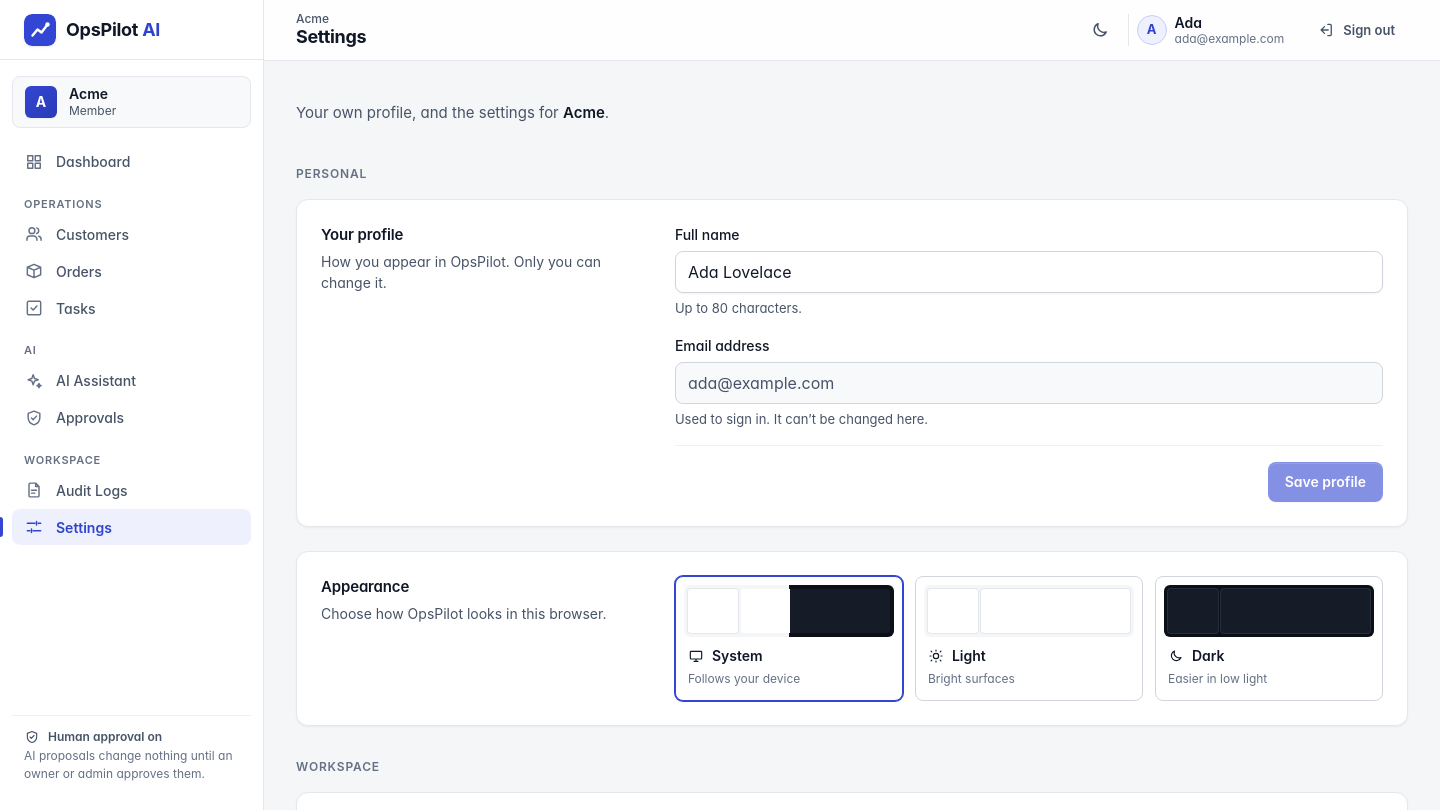
Test case: Profile settings › saves the tidied name and shows it in the header and the dashboard greeting at once
Check: the heading "Settings" is shown, box [296,26,366,49]
Replace the text in the field labelled "Full name" with "  Grace   Hopper " at (1029, 272), box [676,252,1382,292]
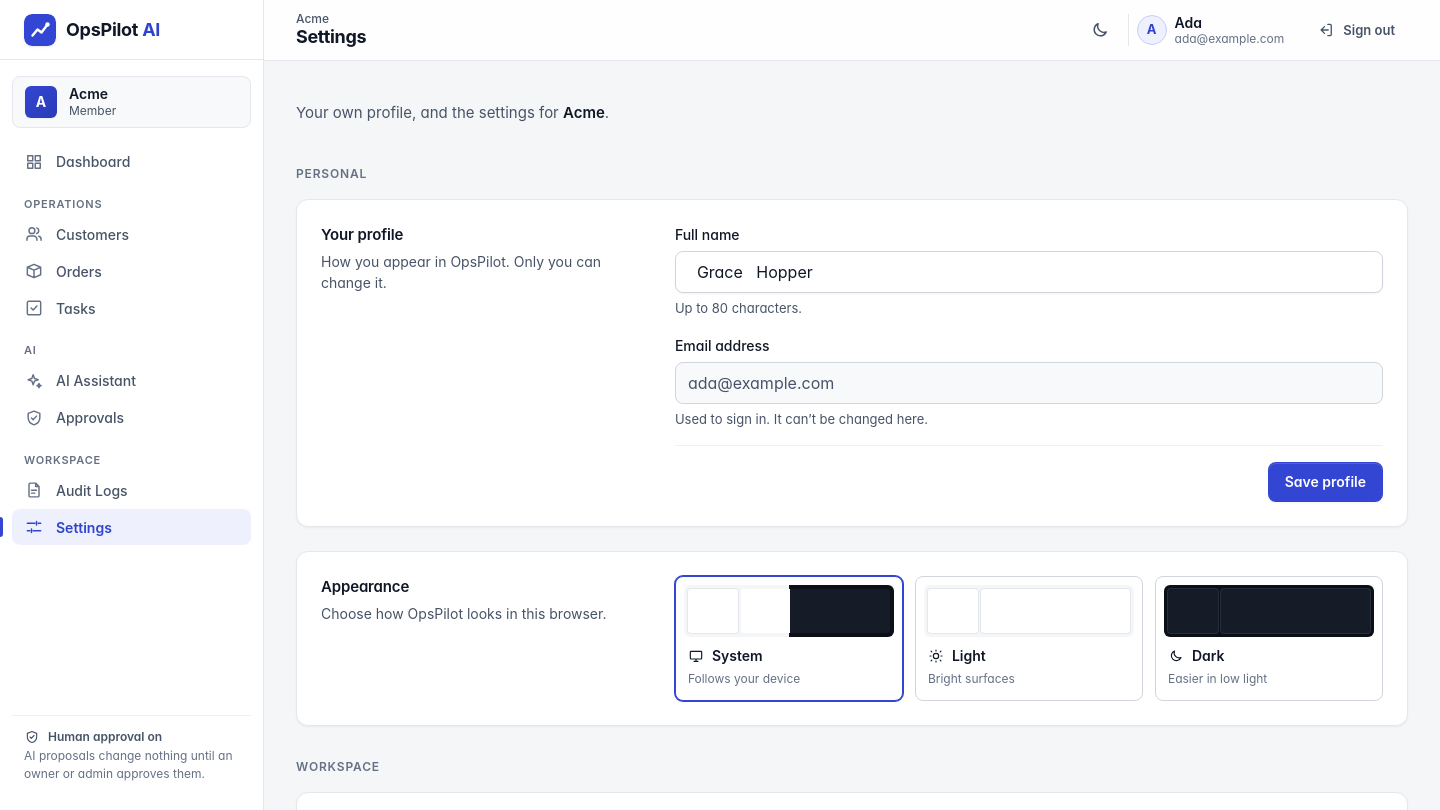
Click the button "Save profile" at (1325, 482), box [1268,462,1383,502]
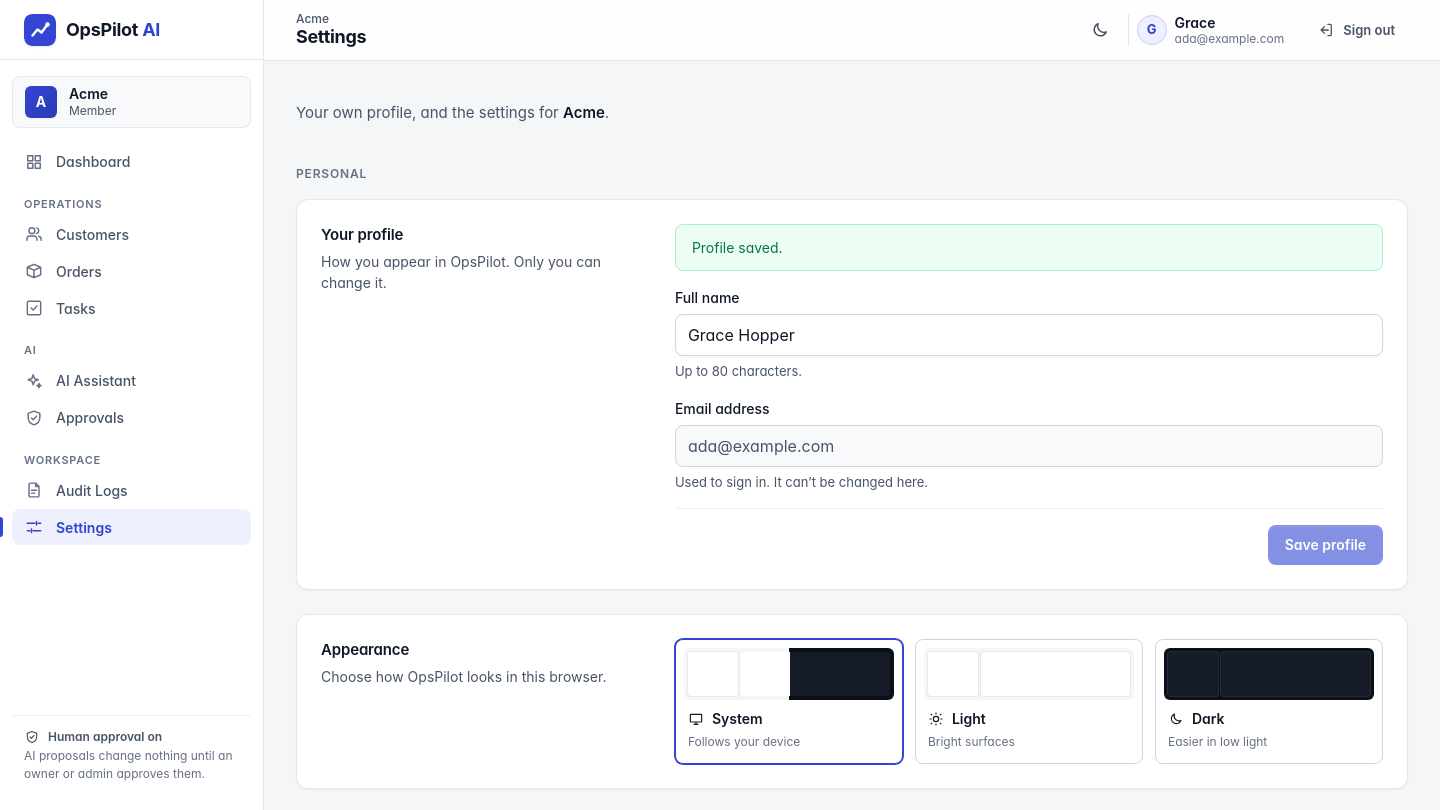
Check: the text "Profile saved." is shown, box [675,224,1383,271]
Check: the text "Grace" is shown, box [1174,14,1215,31]
Click the link "Dashboard" at (77, 162), box [24,152,130,172]
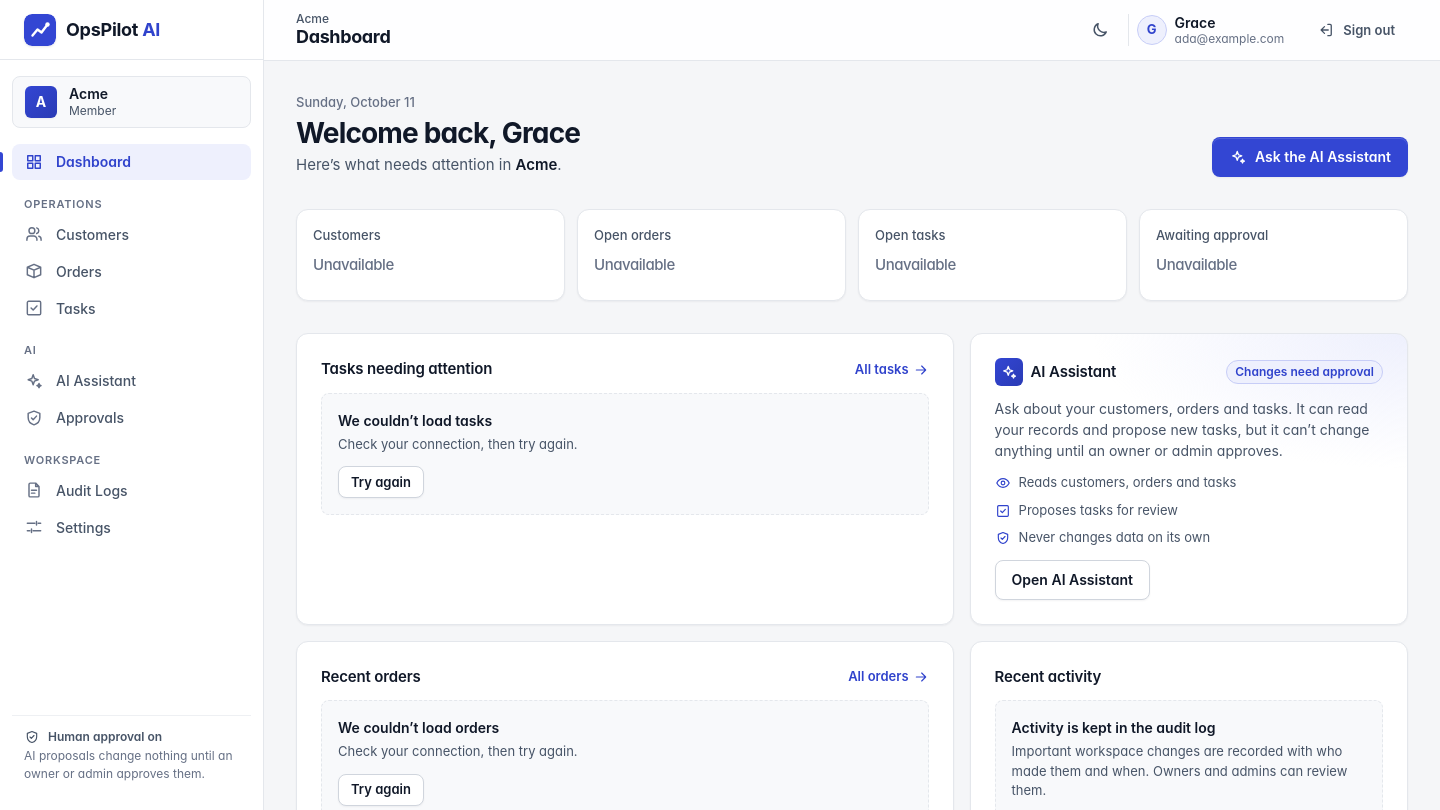
Check: the heading "Welcome back, Grace" is shown, box [296,116,580,150]
